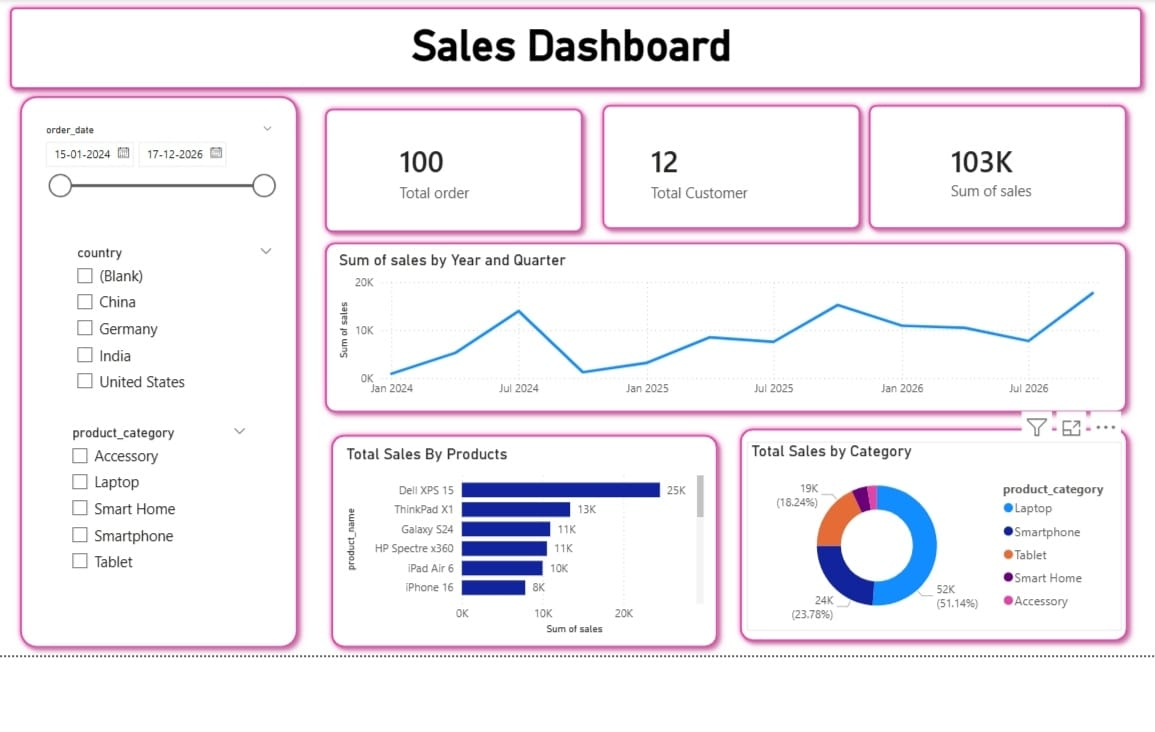

What the dashboard file says about the page in this screenshot:
{"tool":"powerbi","page":{"name":"Page 1","canvas":[1280,720],"ordinal":0},"visuals":[{"type":"shape","box":[9.8,0,1259.5,107.6],"z":0},{"type":"textbox","title":"Sales Dashboard","box":[55,23.2,1159.2,62.4],"z":1000},{"type":"shape","box":[20.6,97.4,322.5,623],"z":2000},{"type":"shape","box":[355.4,111.1,300.5,153.7],"z":3000},{"type":"shape","box":[355.4,258,897.4,204.5],"z":4000},{"type":"shape","box":[362.3,469.3,441.9,251.1],"z":5000},{"type":"shape","box":[809.6,462.4,443.2,251.1],"z":6000},{"type":"barChart","title":"Total Sales By Products","fields":{"Category":["orders.product_name"],"Y":["Sum(orders.sales)"]},"box":[382.8,488.5,402.1,214.1],"z":7000},{"type":"donutChart","title":"Total Sales by Category","fields":{"Category":["orders.product_category"],"Y":["Sum(orders.sales)"]},"box":[826.1,485.8,411.7,207.2],"z":8000},{"type":"cardVisual","fields":{"Data":["CountNonNull(orders.order_id)"]},"box":[417.2,133.1,216.8,111.1],"z":9000},{"type":"lineChart","fields":{"Category":["orders.order_date.Variation.Date Hierarchy.Year","orders.order_date.Variation.Date Hierarchy.Quarter","orders.order_date.Variation.Date Hierarchy.Month","orders.order_date.Variation.Date Hierarchy.Day"],"Y":["Sum(orders.sales)"]},"box":[374.6,275.8,859,170.2],"z":10000},{"type":"slicer","fields":{"Values":["customers.country"]},"box":[79.6,264.8,238.8,181.1],"z":11000},{"type":"slicer","fields":{"Values":["orders.order_date"]},"box":[45.3,131.7,273.1,91.9],"z":12000},{"type":"slicer","fields":{"Values":["orders.product_category"]},"box":[74.1,462.4,215.4,234.6],"z":13000},{"type":"shape","box":[951.4,107.6,300.8,154.1],"z":14000},{"type":"shape","box":[659.1,107.6,300.8,154.1],"z":15000},{"type":"cardVisual","fields":{"Data":["Count(orders.customer_id)"]},"box":[693,133.1,207.2,111.1],"z":16000},{"type":"cardVisual","fields":{"Data":["Sum(orders.sales)"]},"box":[1020.9,131.7,212.7,112.5],"z":17000}]}

Visuals, with their boxes in screenshot pixels (x1, y1, x2, y2):
shape: [left=0, top=0, right=1144, bottom=84]
"Sales Dashboard" textbox: [left=24, top=6, right=1093, bottom=64]
shape: [left=0, top=75, right=289, bottom=650]
shape: [left=301, top=87, right=578, bottom=229]
shape: [left=301, top=223, right=1129, bottom=412]
shape: [left=307, top=418, right=715, bottom=650]
shape: [left=720, top=412, right=1129, bottom=643]
"Total Sales By Products" barChart: [left=326, top=436, right=697, bottom=633]
"Total Sales by Category" donutChart: [left=735, top=433, right=1115, bottom=624]
cardVisual - CountNonNull(orders.order_id): [left=358, top=108, right=558, bottom=210]
lineChart - orders.order_date.Variation.Date Hierarchy.Year x orders.order_date.Variation.Date Hierarchy.Quarter: [left=319, top=239, right=1111, bottom=396]
slicer - customers.country: [left=46, top=229, right=267, bottom=396]
slicer - orders.order_date: [left=15, top=106, right=267, bottom=191]
slicer - orders.product_category: [left=41, top=412, right=240, bottom=628]
shape: [left=851, top=84, right=1128, bottom=226]
shape: [left=581, top=84, right=859, bottom=226]
cardVisual - Count(orders.customer_id): [left=612, top=108, right=803, bottom=210]
cardVisual - Sum(orders.sales): [left=915, top=106, right=1111, bottom=210]
